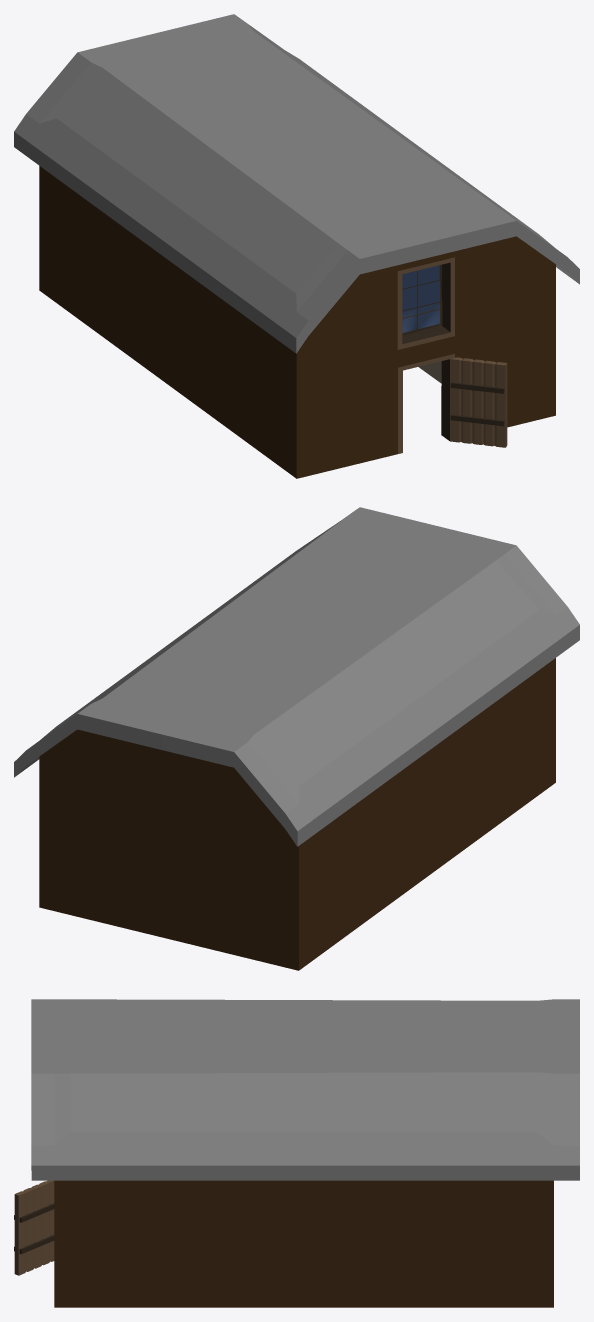
File: CeleiroCORRIGIDO (1).fbx
The picture shows the model from 3 angles, top to bottom: view 1: azimuth 30°, elevation 25°; view 2: azimuth 150°, elevation 25°; view 3: azimuth 270°, elevation 25°; orthographic projection. The views are drawn at different scales.
Parts seen in each view (by area): view 1: Cube.003, Cube.002, Cube.004; view 2: Cube.003, Cube.002; view 3: Cube.003, Cube.002, Cube.004.
Part boxes in pixels (left/top/right/bottom): Cube.003: left=14, top=14, right=579, bottom=353; Cube.002: left=39, top=166, right=555, bottom=478; Cube.004: left=450, top=357, right=507, bottom=447; Cube.003: left=14, top=507, right=579, bottom=846; Cube.002: left=39, top=658, right=555, bottom=970; Cube.003: left=31, top=999, right=579, bottom=1180; Cube.002: left=54, top=1180, right=553, bottom=1307; Cube.004: left=14, top=1180, right=54, bottom=1275.
Size of the model in its own units: 1226 by 892 by 2183.
